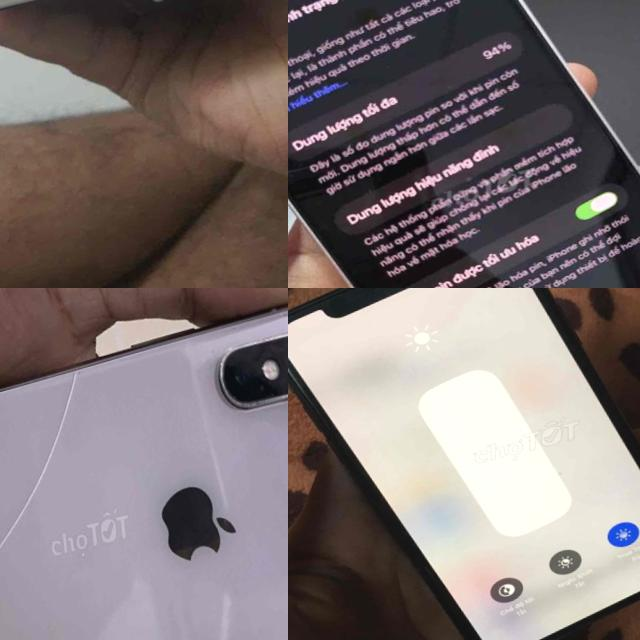gen_12_13: (288, 0, 640, 288)
gen_x_xs: (288, 288, 640, 640), (0, 309, 288, 640)
